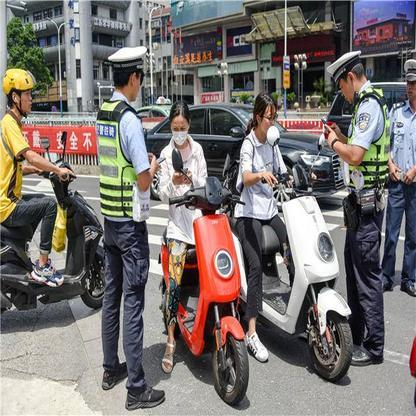target: (235, 91, 352, 383), (155, 100, 250, 406)
